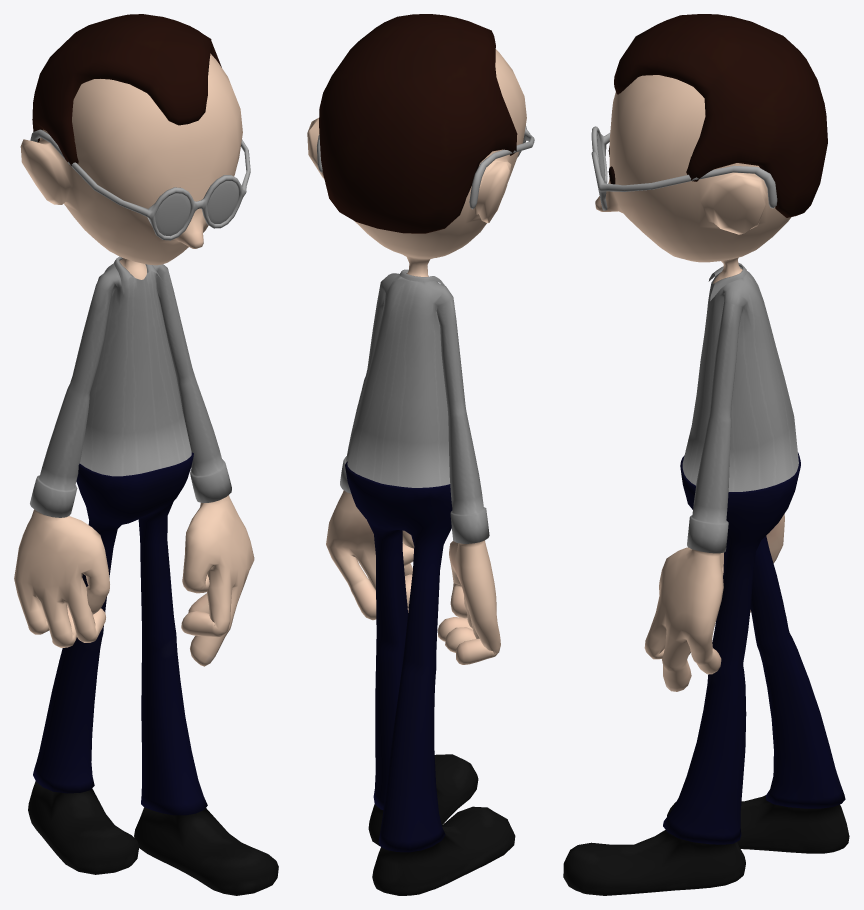
File: Animation_Cartoon_Starter_000042.obj
The picture shows the model from 3 angles, left to right: view 1: azimuth 30°, elevation 25°; view 2: azimuth 150°, elevation 25°; view 3: azimuth 270°, elevation 25°; orthographic projection. The views are drawn at different scales.
Visible parts, largest first — view 1: bm_09; view 2: bm_09; view 3: bm_09.
Boxes of the visible parts, bbox=[...] form: bm_09: bbox=[14, 14, 278, 895]; bm_09: bbox=[307, 14, 534, 895]; bm_09: bbox=[563, 14, 849, 895].
Bounding box in the file's own units: 0.3918 × 1.51 × 0.4671.
3 materials, 1 textured.
